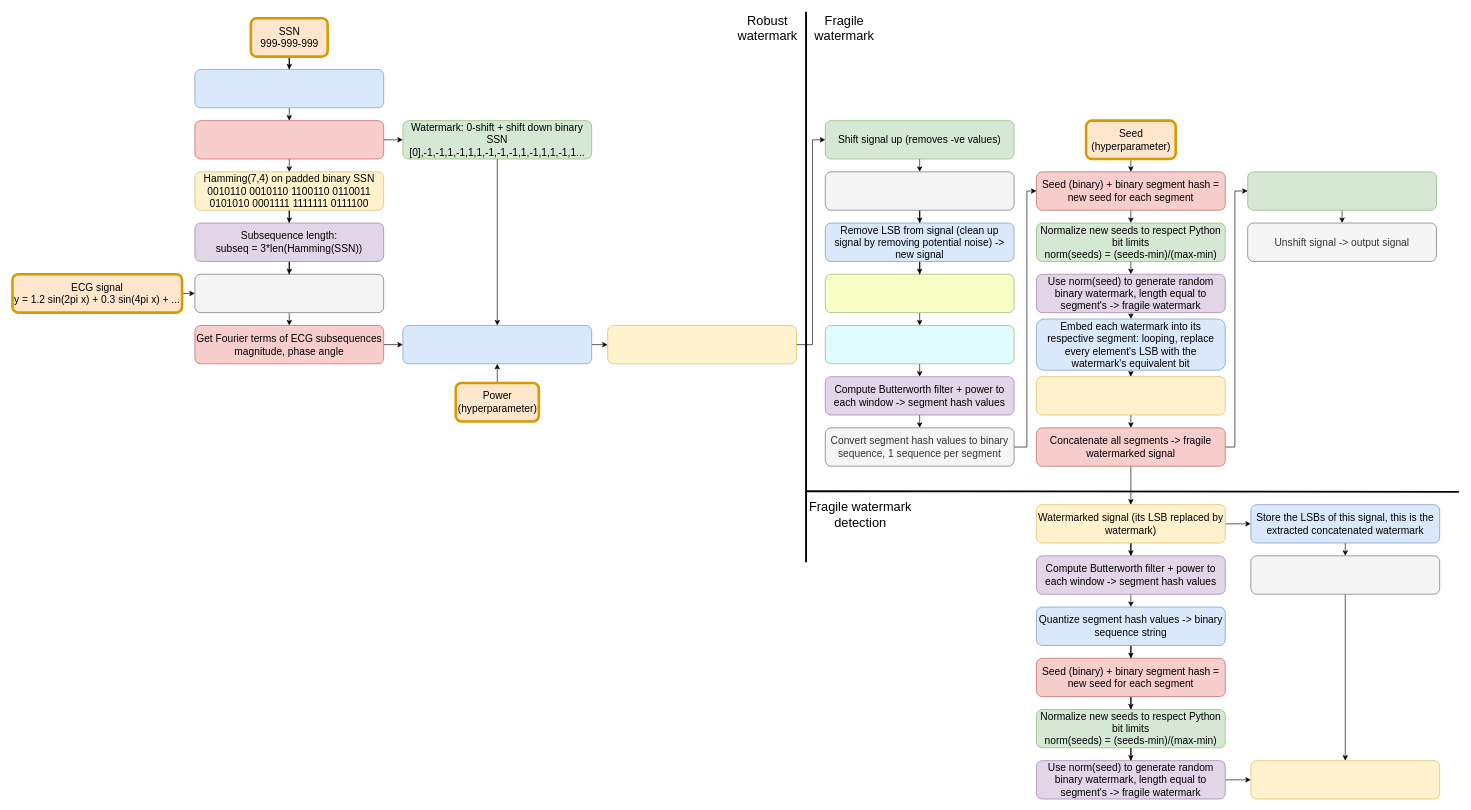
Some shapes in this 1471 by 810 pixel diagram are drawn without their labels. The box of each missing label's shape, as (x1, y1, x2, y2) in pixels:
Apply watermark to Fourier terms max(0, magnitude + power*watermark): (402, 325, 592, 364)
Binary SSN (groups of 4) + 0-pad 1110 1110 0110 1011 0010 0111 1111 11(00): (194, 120, 384, 159)
Binary SSN 111011100110101 100100111111111: (194, 69, 384, 108)
Compute bit accuracy: (1250, 760, 1440, 799)
Inverse Fourier of modified terms -> Robust watermarked series: (607, 325, 796, 364)
Place randomly located windows in each segment: (825, 325, 1014, 364)
Scale signal (removes decimals): (825, 171, 1014, 210)
Segment this array to match the size of the signal segments: (1250, 555, 1440, 594)
Signal with its LSB replaced by watermark: (1036, 376, 1225, 415)
Split ECG signal to subsequences ECG signal = [[subseq1], [subseq2], ...]: (194, 274, 384, 313)
Split new signal to segments based on heartbeats: (825, 274, 1014, 313)
Unscale signal: (1247, 171, 1436, 210)
